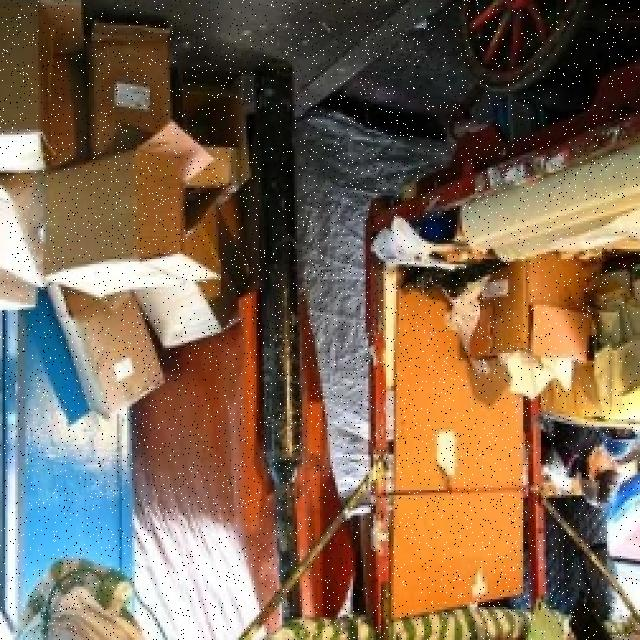box: (394, 274, 528, 488), (46, 162, 200, 284), (136, 206, 247, 349), (384, 494, 523, 599), (49, 272, 158, 401), (77, 20, 167, 160), (0, 0, 74, 170), (489, 251, 592, 360), (0, 153, 54, 300), (179, 91, 245, 192)
